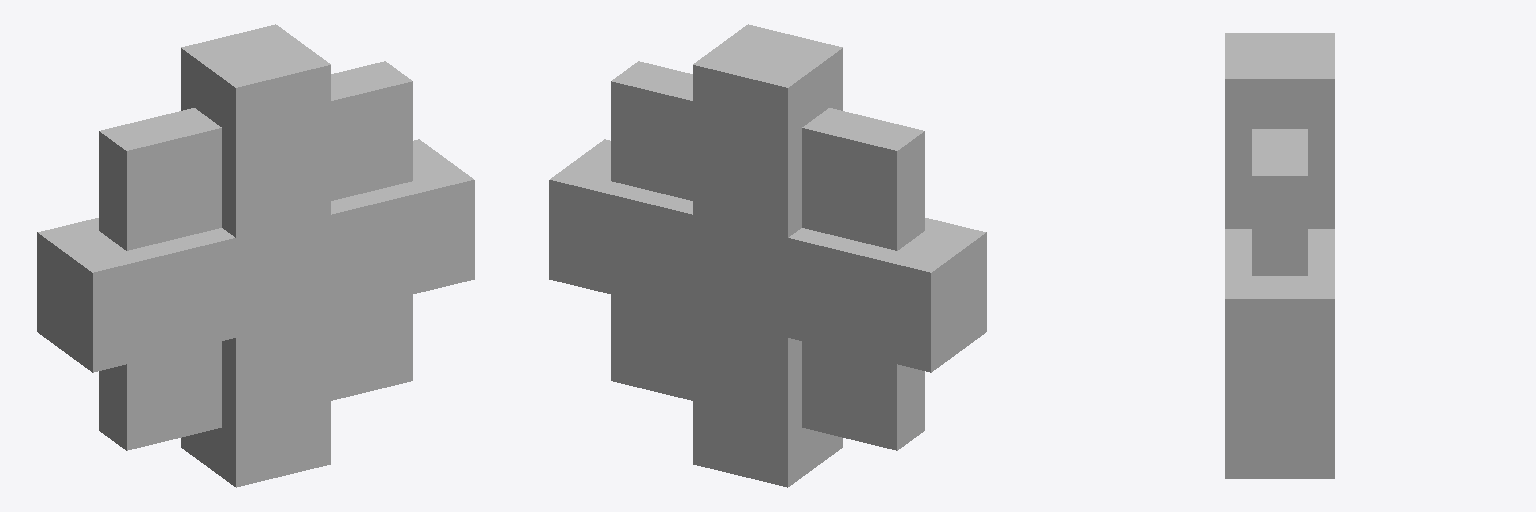
Rendered from medkit.obj.
The picture shows the model from 3 angles: view 1: azimuth 30°, elevation 25°; view 2: azimuth 150°, elevation 25°; view 3: azimuth 270°, elevation 25°; orthographic projection.
Visible parts, largest first — view 1: Cube.004; view 2: Cube.004; view 3: Cube.004.
Boxes of the visible parts, x1,y1,x2,y2 form: Cube.004: [37, 24, 474, 487]; Cube.004: [549, 24, 986, 487]; Cube.004: [1225, 33, 1334, 478].
Size of the model in its own units: 0.5 by 0.5 by 0.125.